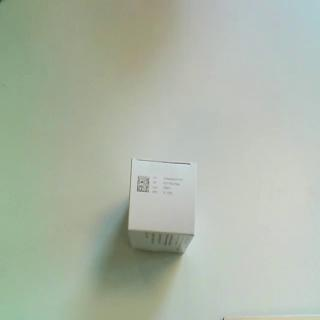oxynorm10mg: (127, 156, 197, 256)
